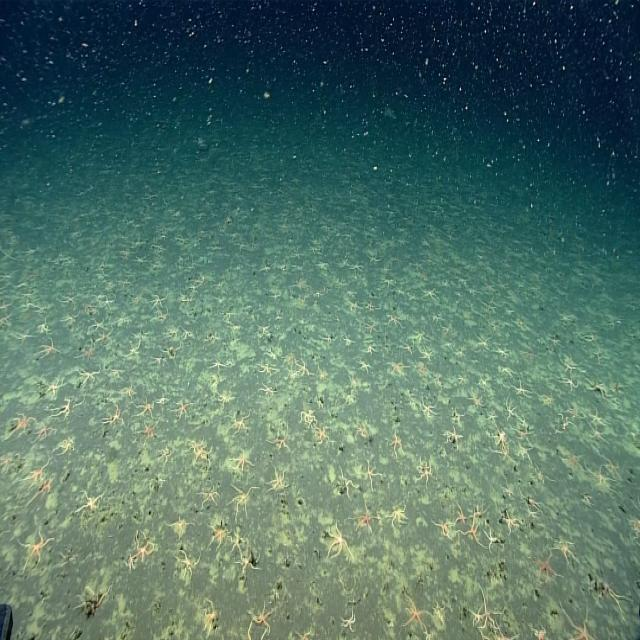brittle-stars: (18, 528, 53, 572), (476, 584, 504, 630), (585, 457, 616, 498), (559, 602, 592, 640), (71, 585, 112, 615), (326, 521, 354, 560), (402, 594, 430, 633), (603, 580, 630, 619), (227, 487, 258, 519), (74, 486, 106, 516), (22, 481, 54, 511), (532, 548, 557, 585), (126, 530, 154, 562), (175, 547, 201, 579), (3, 415, 36, 440), (245, 608, 274, 634), (264, 466, 289, 494), (462, 512, 482, 546), (24, 462, 51, 486), (338, 469, 358, 501), (236, 549, 255, 582), (353, 506, 377, 532), (197, 482, 219, 510), (202, 600, 217, 640), (364, 457, 381, 492), (230, 448, 252, 474), (168, 518, 193, 539), (75, 365, 101, 385), (556, 541, 578, 564), (208, 527, 230, 550), (136, 421, 158, 444), (170, 399, 192, 422), (482, 528, 501, 554), (266, 432, 290, 452), (36, 341, 60, 361), (229, 529, 246, 557), (191, 443, 212, 465), (134, 398, 157, 418), (245, 621, 269, 640), (432, 518, 454, 538), (295, 408, 317, 428), (228, 415, 248, 437), (564, 452, 584, 474), (606, 455, 620, 485), (386, 507, 408, 526), (560, 371, 579, 393), (388, 433, 404, 459), (502, 510, 518, 536), (416, 458, 431, 485), (51, 399, 71, 419), (564, 402, 584, 422), (589, 382, 610, 401), (470, 502, 492, 520), (444, 426, 462, 448), (55, 436, 74, 456), (419, 398, 439, 417), (312, 423, 331, 442), (104, 407, 122, 427), (512, 380, 530, 400), (472, 334, 492, 352), (75, 344, 96, 361), (159, 342, 180, 359), (467, 606, 484, 626), (494, 429, 507, 455), (340, 612, 356, 633), (291, 624, 312, 640), (518, 439, 532, 462), (526, 496, 543, 514), (294, 359, 309, 379), (60, 312, 81, 326), (46, 380, 62, 398), (258, 360, 276, 376), (468, 392, 486, 408), (353, 423, 369, 441), (96, 328, 112, 346), (148, 294, 167, 309), (260, 382, 277, 398), (419, 286, 436, 302), (364, 320, 380, 337), (385, 314, 404, 328), (494, 345, 510, 361), (34, 424, 51, 439), (215, 393, 232, 408), (538, 392, 555, 407), (532, 622, 546, 640), (0, 454, 14, 472), (187, 436, 205, 450), (415, 361, 429, 379), (454, 506, 467, 525), (506, 400, 517, 422), (388, 362, 408, 374), (119, 385, 136, 399), (557, 413, 570, 431), (420, 343, 432, 361), (208, 360, 225, 372), (591, 410, 603, 427), (357, 360, 371, 374), (126, 342, 140, 356), (178, 327, 192, 341), (150, 354, 166, 366), (37, 322, 51, 334), (436, 376, 444, 391), (497, 368, 514, 374)
